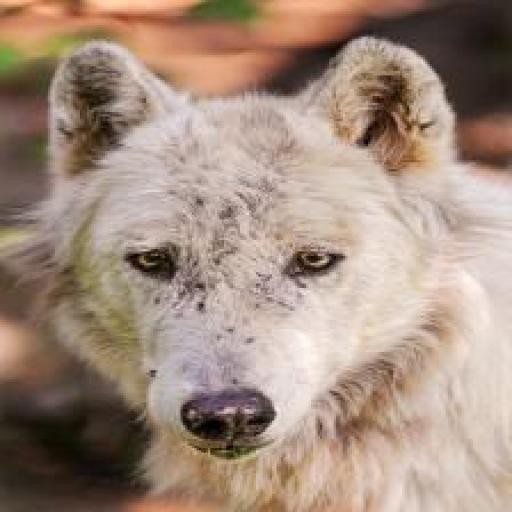wolf: (11, 34, 512, 512)
